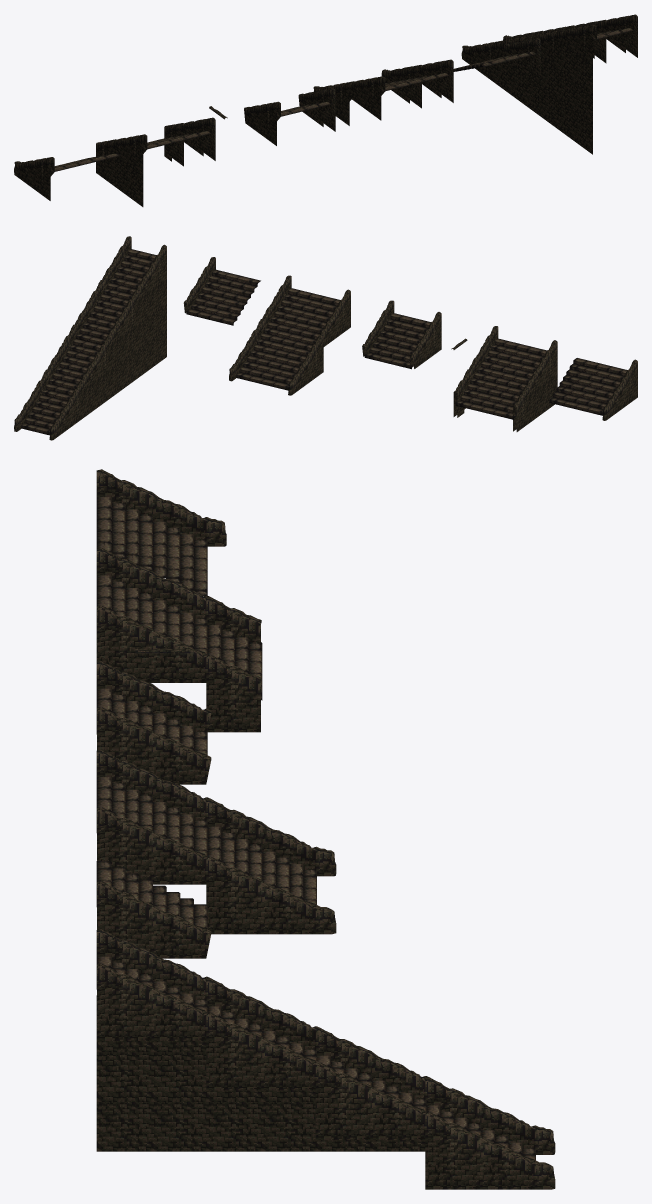
File: EnvMdrMD_Mount_C_Stairs_4W8S.FBX
The picture shows the model from 3 angles, top to bottom: view 1: azimuth 30°, elevation 25°; view 2: azimuth 150°, elevation 25°; view 3: azimuth 270°, elevation 25°; orthographic projection. The views are drawn at different scales.
Visible parts, largest first — view 1: EnvMdrMD_Mount_C_Stairs_Unique_A, EnvMdrMD_Mount_C_Stairs_5W12S, EnvMdrMD_Mount_C_Stairs_5W16S, EnvMdrMD_Mount_C_Stairs_4W8S, EnvMdrMD_Mount_C_Stairs_5W8S_R, EnvMdrMD_Mount_C_Stairs_4W8S_L; view 2: EnvMdrMD_Mount_C_Stairs_Unique_A, EnvMdrMD_Mount_C_Stairs_5W16S, EnvMdrMD_Mount_C_Stairs_5W12S, EnvMdrMD_Mount_C_Stairs_5W8S_R, EnvMdrMD_Mount_C_Stairs_4W8S, EnvMdrMD_Mount_C_Stairs_4W8S_L; view 3: EnvMdrMD_Mount_C_Stairs_Unique_A, EnvMdrMD_Mount_C_Stairs_5W16S, EnvMdrMD_Mount_C_Stairs_5W12S, EnvMdrMD_Mount_C_Stairs_4W8S, EnvMdrMD_Mount_C_Stairs_5W8S_R, EnvMdrMD_Mount_C_Stairs_4W8S_L.
Part boxes in pixels (<box>): EnvMdrMD_Mount_C_Stairs_Unique_A: <box>461,14,637,154</box>; EnvMdrMD_Mount_C_Stairs_5W12S: <box>96,117,215,206</box>; EnvMdrMD_Mount_C_Stairs_5W16S: <box>313,59,453,125</box>; EnvMdrMD_Mount_C_Stairs_4W8S: <box>244,88,335,145</box>; EnvMdrMD_Mount_C_Stairs_5W8S_R: <box>14,153,120,200</box>; EnvMdrMD_Mount_C_Stairs_4W8S_L: <box>453,38,540,81</box>; EnvMdrMD_Mount_C_Stairs_Unique_A: <box>14,236,166,440</box>; EnvMdrMD_Mount_C_Stairs_5W16S: <box>229,275,350,395</box>; EnvMdrMD_Mount_C_Stairs_5W12S: <box>453,326,557,431</box>; EnvMdrMD_Mount_C_Stairs_5W8S_R: <box>549,358,637,420</box>; EnvMdrMD_Mount_C_Stairs_4W8S: <box>362,300,441,369</box>; EnvMdrMD_Mount_C_Stairs_4W8S_L: <box>183,257,260,325</box>; EnvMdrMD_Mount_C_Stairs_Unique_A: <box>96,929,555,1189</box>; EnvMdrMD_Mount_C_Stairs_5W16S: <box>96,749,336,934</box>; EnvMdrMD_Mount_C_Stairs_5W12S: <box>96,548,262,732</box>; EnvMdrMD_Mount_C_Stairs_4W8S: <box>96,661,211,784</box>; EnvMdrMD_Mount_C_Stairs_5W8S_R: <box>96,469,226,596</box>; EnvMdrMD_Mount_C_Stairs_4W8S_L: <box>96,861,211,958</box>.
Size of the model in its own units: 4304 by 900 by 1675.
1 material, 1 textured.
